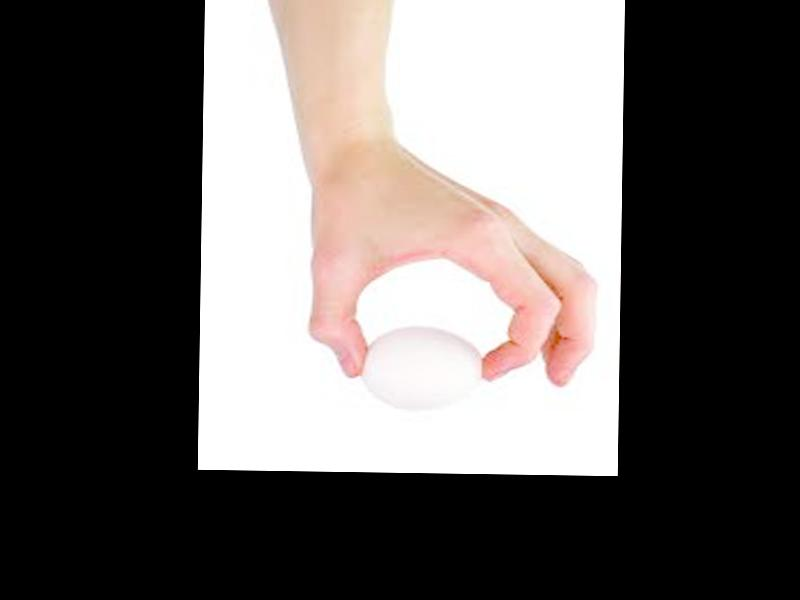Eggs: (361, 325, 484, 411)
